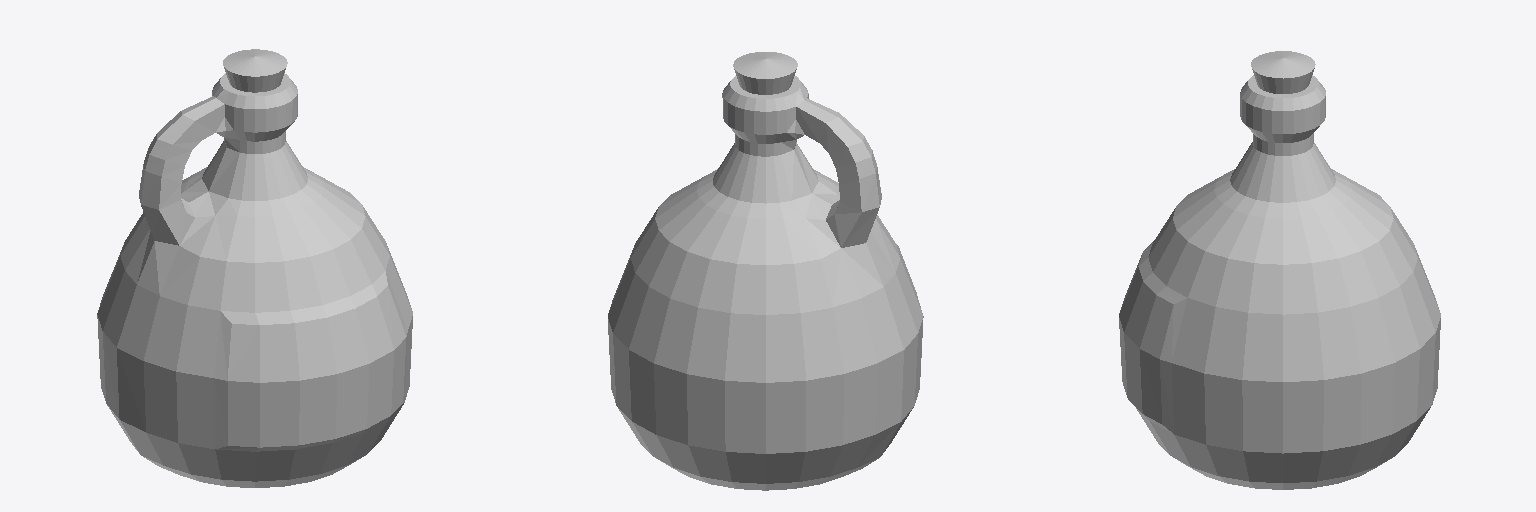
Rendered from ale_bottle_B.obj.
The picture shows the model from 3 angles: view 1: azimuth 30°, elevation 25°; view 2: azimuth 150°, elevation 25°; view 3: azimuth 270°, elevation 25°; orthographic projection.
Visible parts, largest first — view 1: ale_bottle_B_Cylinder.049; view 2: ale_bottle_B_Cylinder.049; view 3: ale_bottle_B_Cylinder.049.
Part boxes in pixels (x1,y1,x2,y2): ale_bottle_B_Cylinder.049: (97, 49, 412, 487); ale_bottle_B_Cylinder.049: (608, 52, 923, 490); ale_bottle_B_Cylinder.049: (1119, 51, 1440, 489).
Size of the model in its own units: 0.5126 by 0.7052 by 0.5198.